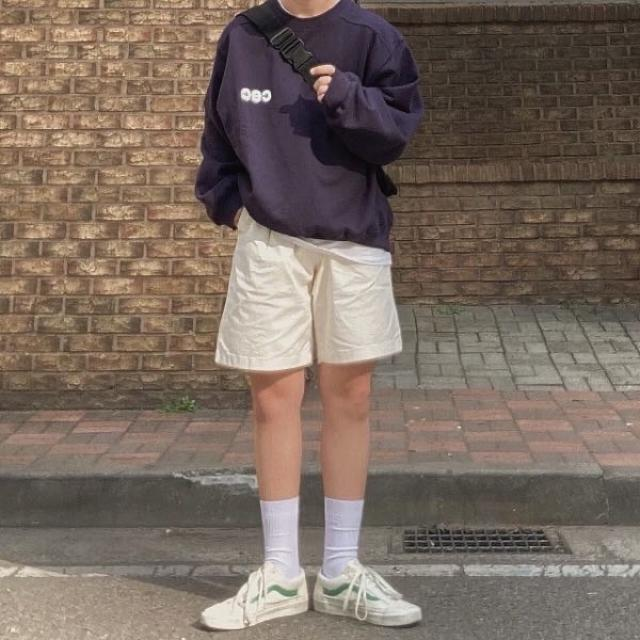mtm: (196, 0, 419, 254)
shortpants: (212, 225, 404, 371)
